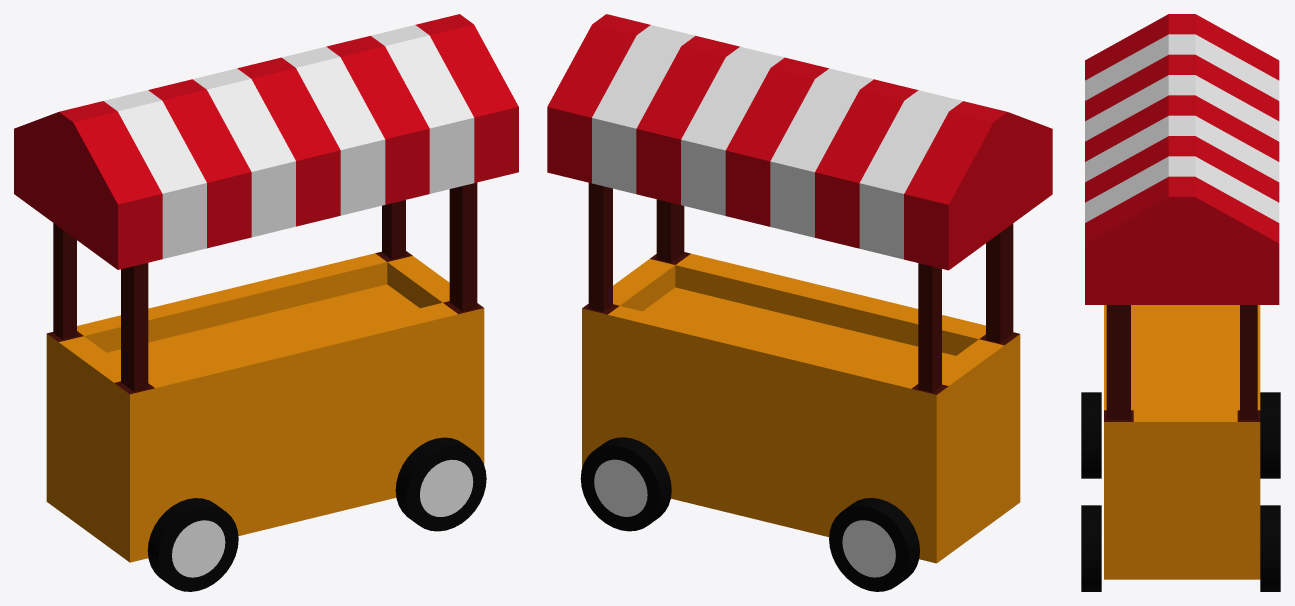
The model's file is foodStall4.fbx.
The picture shows the model from 3 angles, left to right: view 1: azimuth 30°, elevation 25°; view 2: azimuth 150°, elevation 25°; view 3: azimuth 270°, elevation 25°; orthographic projection. The views are drawn at different scales.
Parts seen in each view (by area): view 1: Circle.004; view 2: Circle.004; view 3: Circle.004.
Boxes of the visible parts, left/top/right/bottom form: Circle.004: left=14, top=14, right=518, bottom=591; Circle.004: left=547, top=14, right=1052, bottom=591; Circle.004: left=1081, top=14, right=1280, bottom=591.
Bounding box in the file's own units: 166 × 179 × 76.2.
